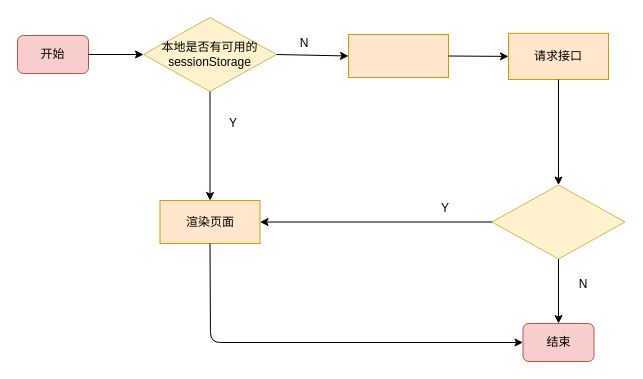
The diagram is 643 pixels wide and 379 high, and some of its shapes have lost their labels. Here are the shapes that lost their labels. From the top down, the box of each, then its label:
(348, 34, 448, 78): 向后台发送请求
(491, 184, 625, 259): 状态码为200
